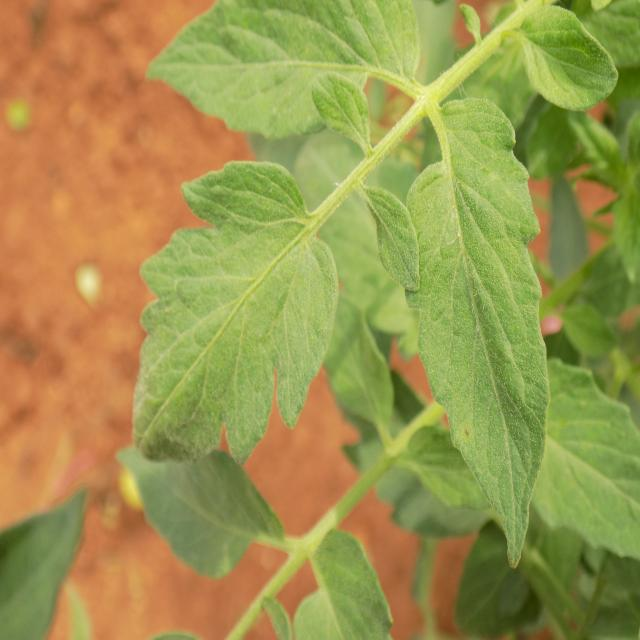tomato_healthy: (400, 88, 548, 579), (127, 158, 338, 455), (114, 436, 284, 581), (506, 4, 620, 110)
